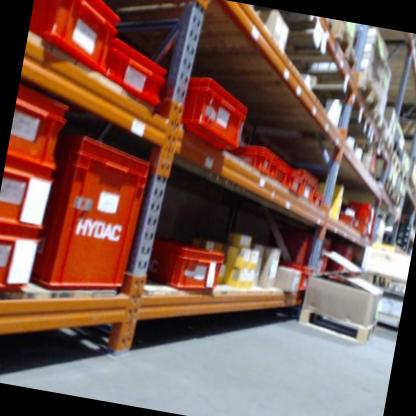pallet: (251, 7, 365, 81), (280, 59, 392, 128), (359, 111, 400, 157), (355, 163, 396, 200), (380, 146, 405, 173), (380, 191, 400, 209), (400, 165, 410, 184)
small_load_carrier: (29, 123, 161, 308), (153, 64, 256, 155), (23, 0, 127, 76), (7, 79, 79, 167), (99, 34, 171, 111), (148, 239, 225, 297), (0, 155, 55, 234), (0, 224, 43, 300), (234, 135, 276, 175), (322, 239, 357, 283), (301, 236, 333, 280), (287, 164, 319, 204), (267, 154, 297, 193), (284, 257, 315, 294), (348, 199, 378, 224), (348, 219, 372, 246), (283, 167, 303, 192), (337, 209, 358, 229), (310, 187, 324, 208)
